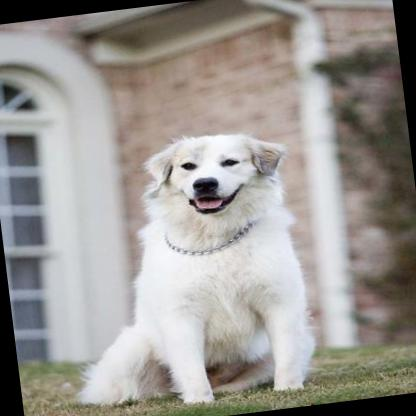Great_Pyrenees: (53, 122, 320, 416)
